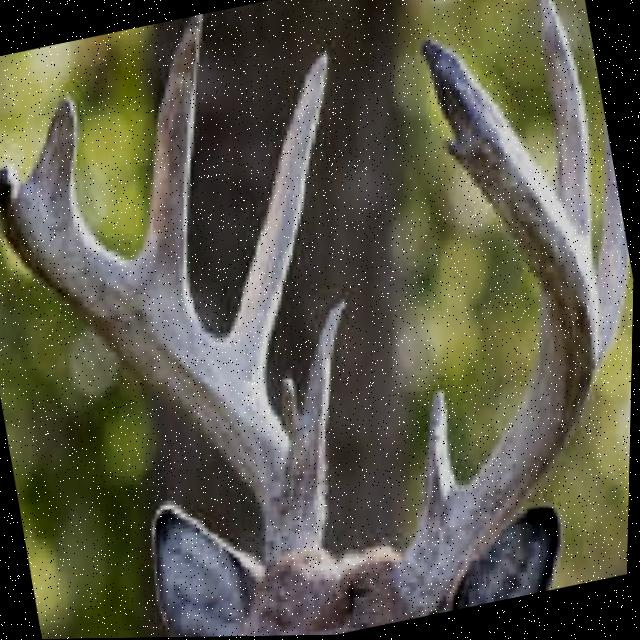E1: (283, 373, 302, 437)
L-G1: (285, 297, 348, 506)
L-G2: (226, 51, 331, 381)
L-G3: (134, 14, 205, 303)
L-G4: (23, 93, 83, 219)
L-R: (0, 165, 331, 577)
R-F: (396, 39, 599, 620)
R-G1: (426, 388, 462, 515)
